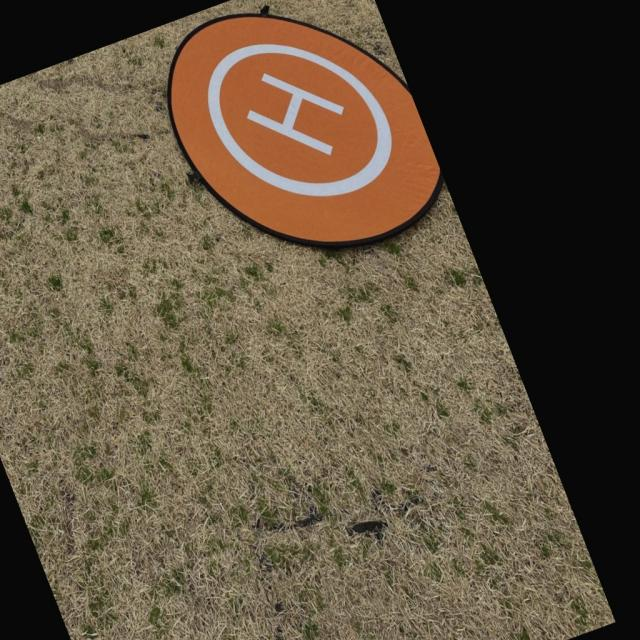helipad: (203, 38, 393, 200)
